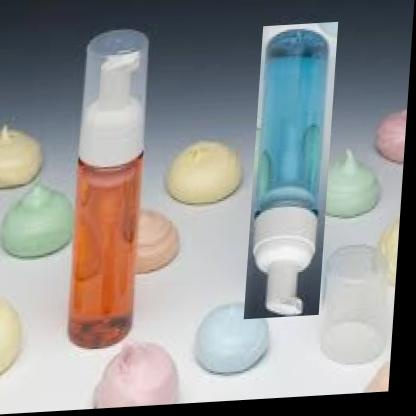trash: (245, 22, 337, 317), (68, 30, 148, 347)
